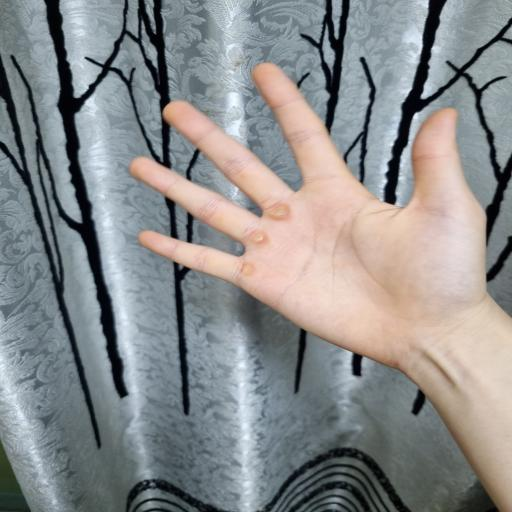Paper: (128, 60, 505, 381)
